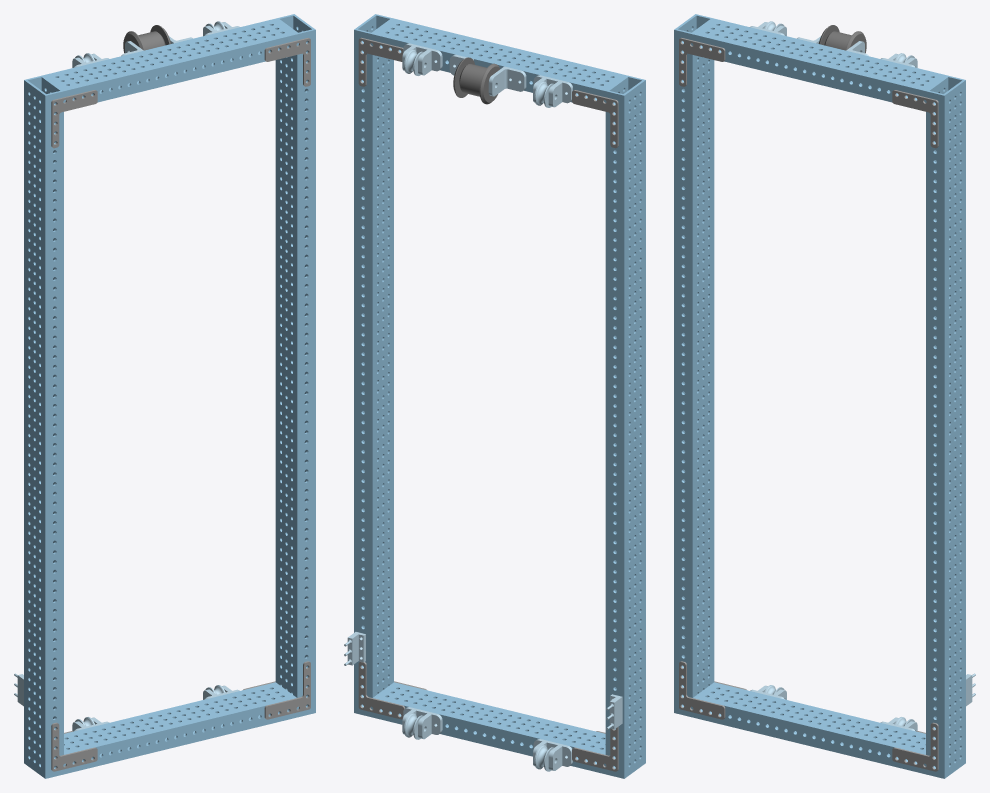
3 renders of one model, left to right at view 1: azimuth 30°, elevation 25°; view 2: azimuth 150°, elevation 25°; view 3: azimuth 330°, elevation 25°, orthographic.
Visible parts, largest first — view 1: Tube 2"x1"x35" (×2), Tube 2"x1"x12.5" (×2), 90Deg Bracket (×4); view 2: Tube 2"x1"x35" (×2), Tube 2"x1"x12.5" (×2), 90Deg Bracket (×4), 4mm Dyneema Cable Pulley Bracket ELEV-PULLEY-001 (×4), Constant Force Spring Bracket ELEV-SPRING-001, Constant Force Spring Spool ELEV-SPRING-003, 25 Chain Attachment Part ELEV-DRIVE-001; view 3: Tube 2"x1"x35" (×2), Tube 2"x1"x12.5" (×2), 90Deg Bracket (×4).
Boxes of the visible parts, x1,y1,x2,y2 form: Tube 2"x1"x35" (×2): (24, 14, 315, 778); Tube 2"x1"x12.5" (×2): (43, 18, 297, 774); 90Deg Bracket (×4): (51, 37, 310, 771); Tube 2"x1"x35" (×2): (354, 14, 645, 778); Tube 2"x1"x12.5" (×2): (372, 18, 626, 774); 90Deg Bracket (×4): (358, 37, 618, 771); 4mm Dyneema Cable Pulley Bracket ELEV-PULLEY-001 (×4): (402, 43, 572, 770); Constant Force Spring Bracket ELEV-SPRING-001: (488, 66, 526, 96); Constant Force Spring Spool ELEV-SPRING-003: (459, 64, 486, 96); 25 Chain Attachment Part ELEV-DRIVE-001: (344, 632, 365, 665); Tube 2"x1"x35" (×2): (674, 14, 965, 778); Tube 2"x1"x12.5" (×2): (692, 18, 946, 774); 90Deg Bracket (×4): (679, 37, 938, 771).
Bounding box in the file's own units: 0.3683 × 0.9027 × 0.1047.
